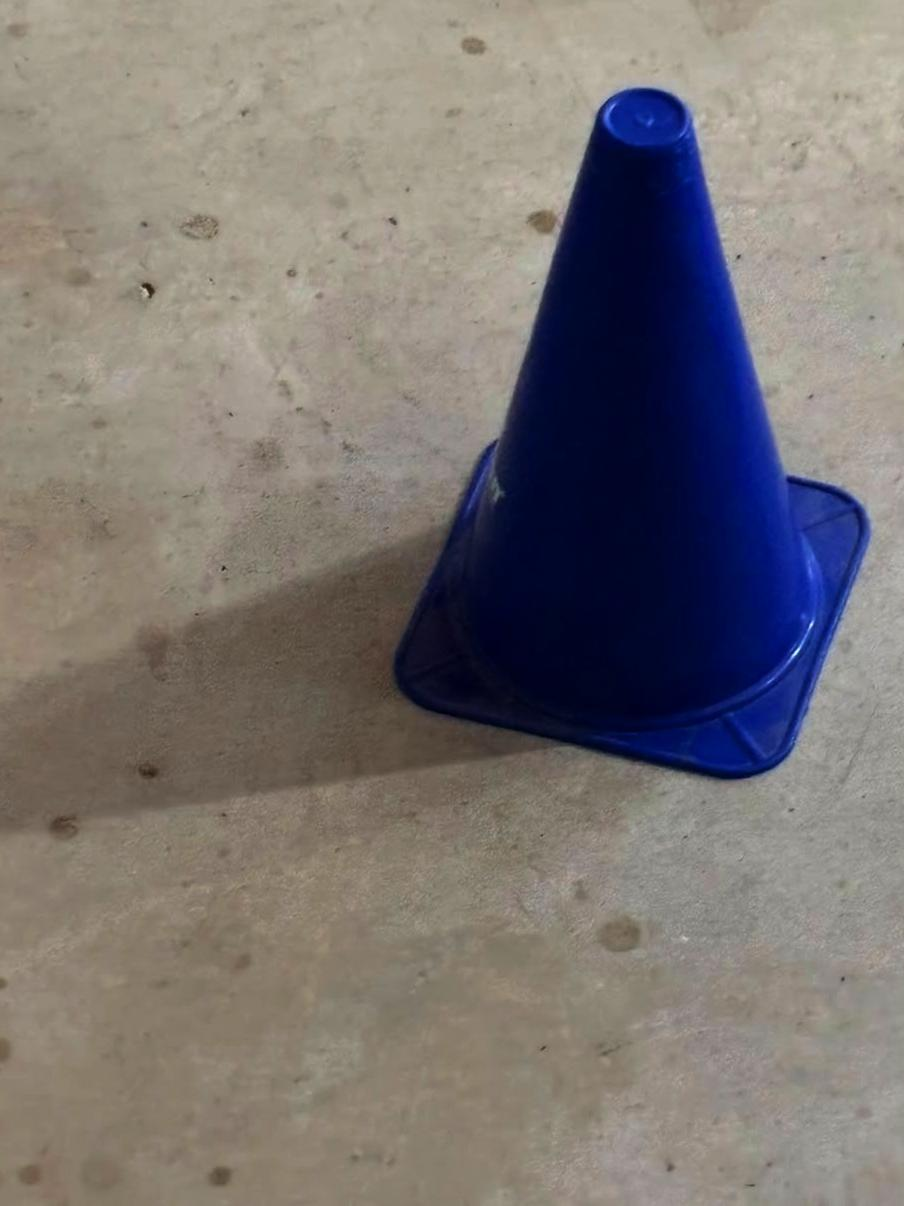0 cone: (395, 88, 867, 777)
